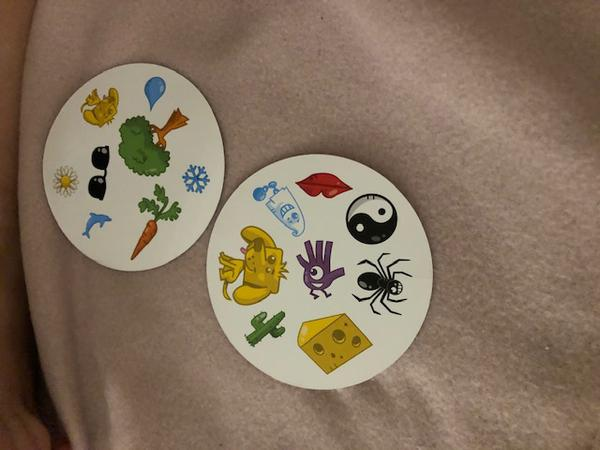araignee: (349, 250, 414, 318)
arbre: (120, 105, 191, 183)
bouche: (295, 167, 352, 202)
cactus: (242, 306, 291, 351)
carotte: (125, 183, 183, 263)
chien: (215, 224, 288, 308), (78, 84, 123, 132)
dauphin: (81, 209, 113, 240)
dooble: (292, 237, 347, 305)
fantome: (254, 177, 308, 239)
fleur: (51, 161, 82, 201)
flocon: (180, 160, 211, 198)
fromage: (296, 312, 374, 377)
goutte: (138, 70, 171, 116)
lunette: (88, 142, 113, 204)
ying_yang: (341, 190, 401, 251)
